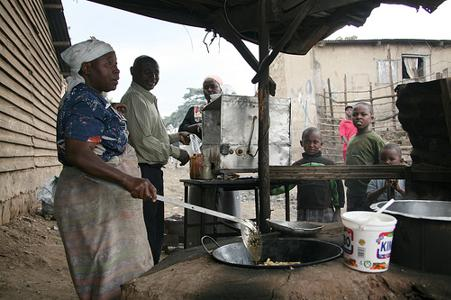person: (55, 37, 158, 300)
